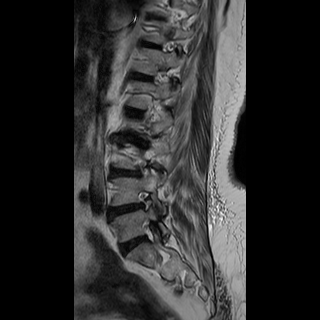RFS1: (133, 185, 158, 216)
